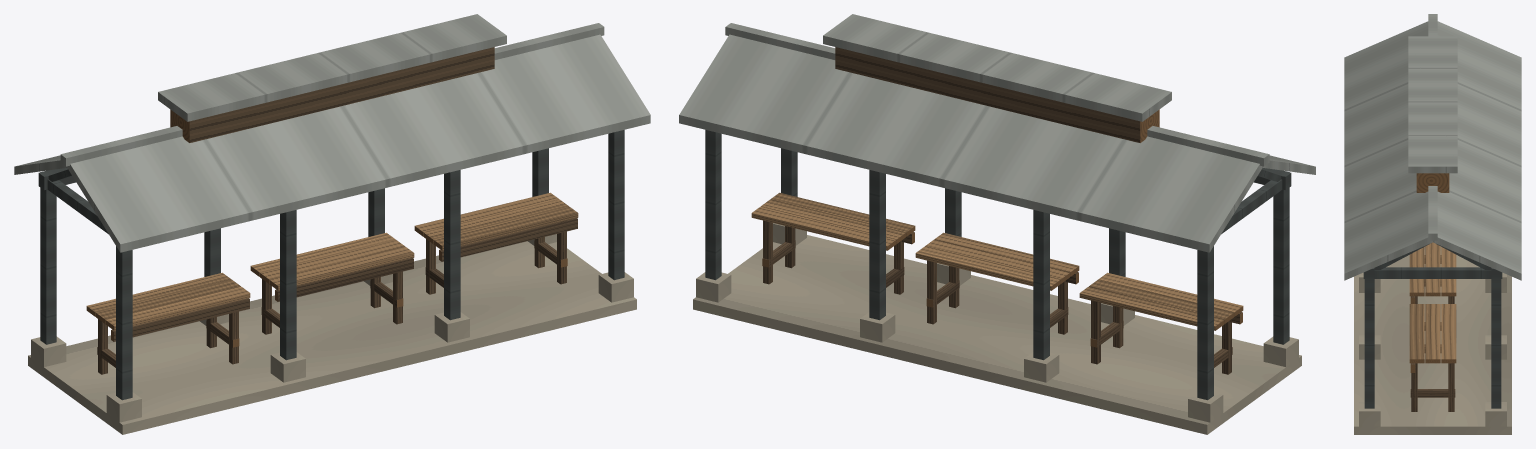
3 views of the same model, side by side, from view 1: azimuth 30°, elevation 25°; view 2: azimuth 150°, elevation 25°; view 3: azimuth 270°, elevation 25° (orthographic). The views are drawn at different scales.
Visible parts, largest first — view 1: luanda; view 2: luanda; view 3: luanda.
Part boxes in pixels (bbox=[...]): luanda: bbox=[14, 14, 650, 434]; luanda: bbox=[679, 14, 1315, 434]; luanda: bbox=[1344, 14, 1521, 434].
Bounding box in the file's own units: 5.15 × 2.5 × 1.76.
Materials: 1 (1 with a texture image).
